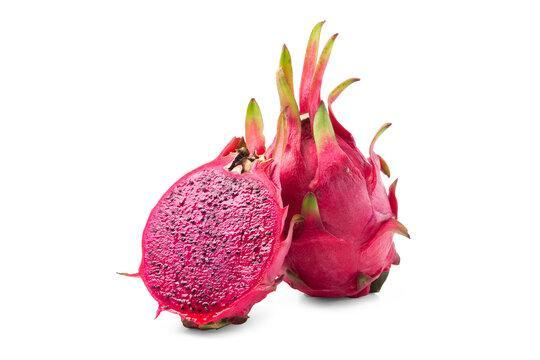dragon-fruit: (261, 124, 403, 300), (138, 163, 286, 324)
